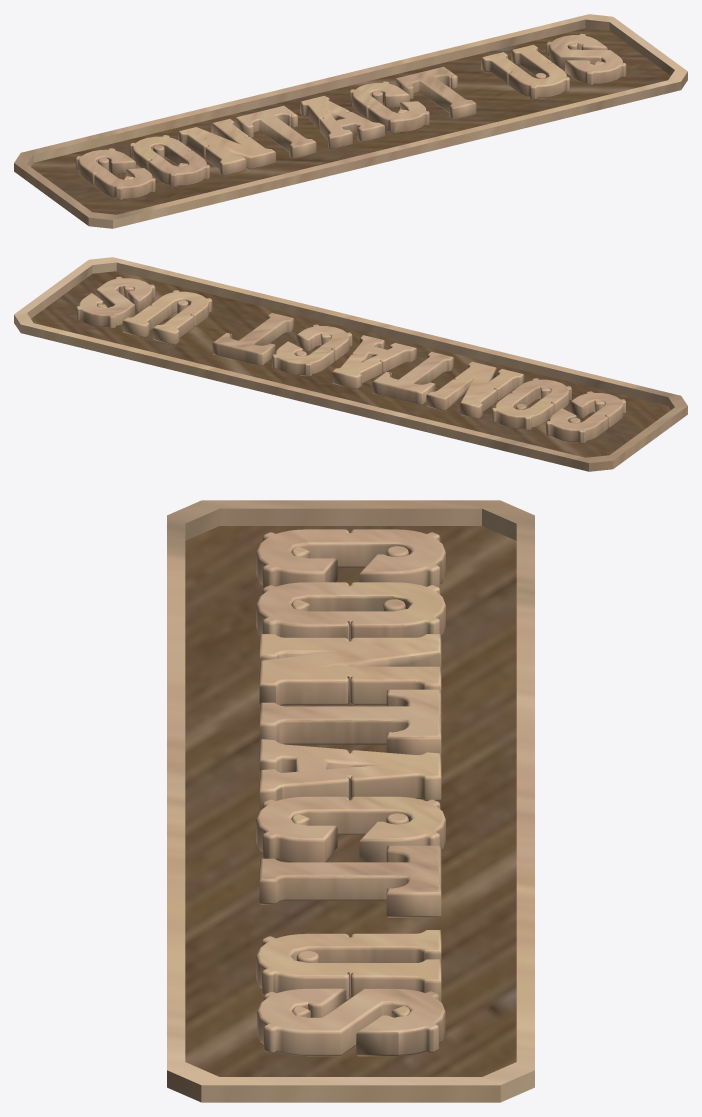
Rendered from ContactUsModel.glb.
3 views of the same model, one above another, from view 1: azimuth 30°, elevation 25°; view 2: azimuth 150°, elevation 25°; view 3: azimuth 270°, elevation 25° (orthographic). The views are drawn at different scales.
Parts seen in each view (by area): view 1: Plane.2076, Text.001; view 2: Plane.2076, Text.001; view 3: Plane.2076, Text.001.
Boxes of the visible parts, x1=… form: Plane.2076: x1=14, y1=14, x2=687, y2=228; Text.001: x1=75, y1=33, x2=626, y2=200; Plane.2076: x1=14, y1=257, x2=687, y2=471; Text.001: x1=76, y1=276, x2=625, y2=443; Plane.2076: x1=167, y1=500, x2=534, y2=1102; Text.001: x1=256, y1=529, x2=445, y2=1056.
Size of the model in its own units: 42.77 by 1.03 by 11.38.
1 material, 1 textured.
